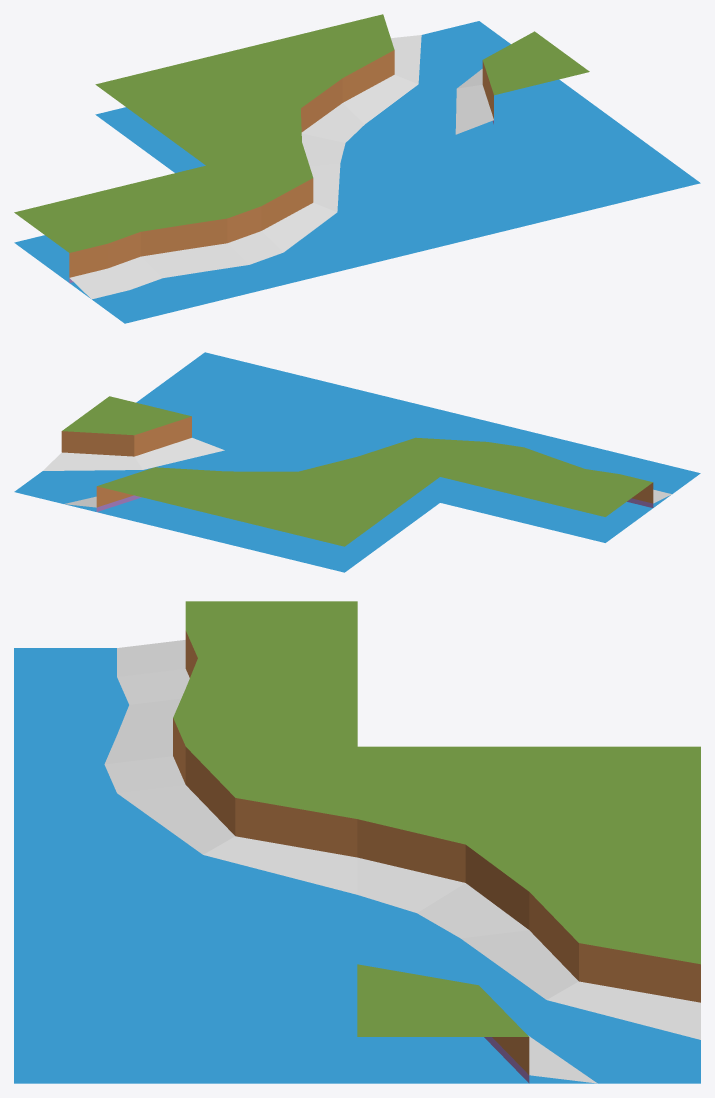
File: tileset_grass_water.fbx
The picture shows the model from 3 angles, top to bottom: view 1: azimuth 30°, elevation 25°; view 2: azimuth 150°, elevation 25°; view 3: azimuth 270°, elevation 25°; orthographic projection. The views are drawn at different scales.
Parts seen in each view (by area): view 1: grass_water_line, grass_water_in, water_flat, water_flat.001, grass_water_saddle, water_flat.002, grass_water_out; view 2: grass_water_in, grass_water_line, water_flat, grass_water_saddle, water_flat.001, water_flat.002, grass_water_out; view 3: grass_water_in, grass_water_line, water_flat, grass_water_saddle, water_flat.001, grass_water_out, water_flat.002.
Boxes of the visible parts, <box> form: grass_water_line: <box>14,165,316,323</box>; grass_water_in: <box>95,37,397,172</box>; water_flat: <box>398,102,700,229</box>; water_flat.001: <box>284,149,508,276</box>; grass_water_saddle: <box>287,14,589,134</box>; water_flat.002: <box>365,21,589,148</box>; grass_water_out: <box>206,142,340,252</box>; grass_water_in: <box>179,456,439,572</box>; grass_water_line: <box>440,433,700,542</box>; water_flat: <box>136,352,369,462</box>; grass_water_saddle: <box>43,396,226,511</box>; water_flat.001: <box>275,392,534,502</box>; water_flat.002: <box>14,450,274,532</box>; grass_water_out: <box>358,437,487,476</box>; grass_water_in: <box>357,746,700,938</box>; grass_water_line: <box>14,601,357,793</box>; water_flat: <box>14,938,357,1083</box>; grass_water_saddle: <box>357,891,700,1083</box>; water_flat.001: <box>14,793,357,938</box>; grass_water_out: <box>117,746,357,894</box>; water_flat.002: <box>357,938,700,1083</box>.
Size of the model in its own units: 15 by 0.75 by 10.
